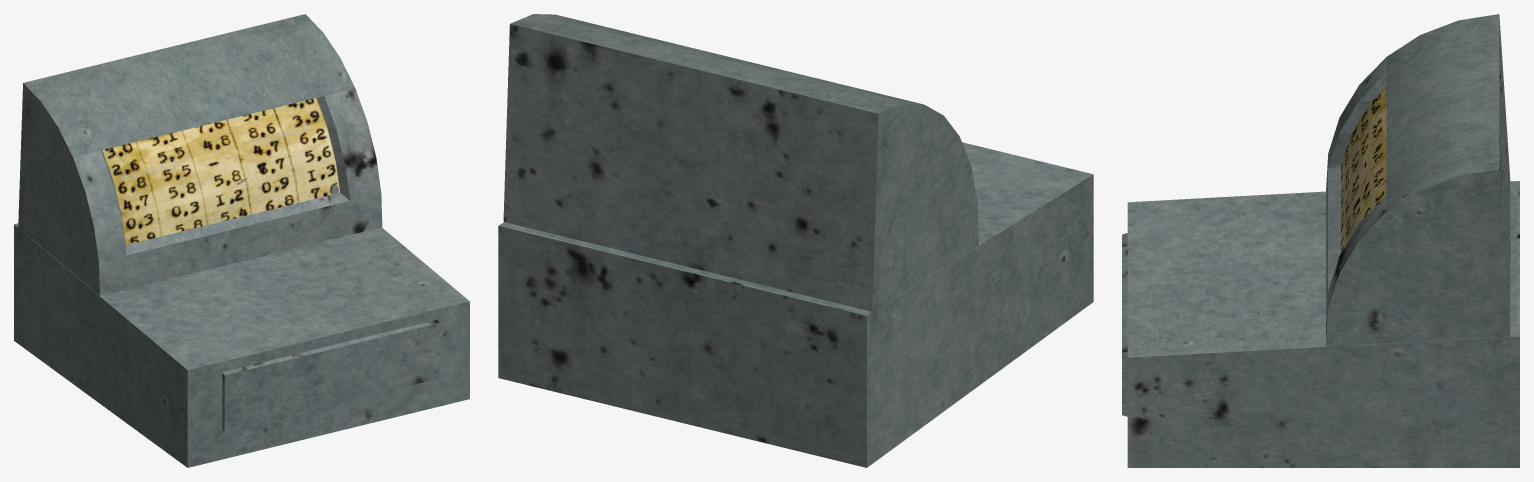
Rendered from register.FBX.
3 renders of one model, left to right at view 1: azimuth 30°, elevation 25°; view 2: azimuth 150°, elevation 25°; view 3: azimuth 270°, elevation 25°, orthographic. The views are drawn at different scales.
Parts seen in each view (by area): view 1: register; view 2: register; view 3: register.
Boxes of the visible parts, x1,y1,x2,y2 form: register: (14, 14, 469, 467); register: (498, 14, 1093, 467); register: (1122, 14, 1519, 467).
Bounding box in the file's own units: 19.41 × 17.37 × 20.98.
1 material, 1 textured.
